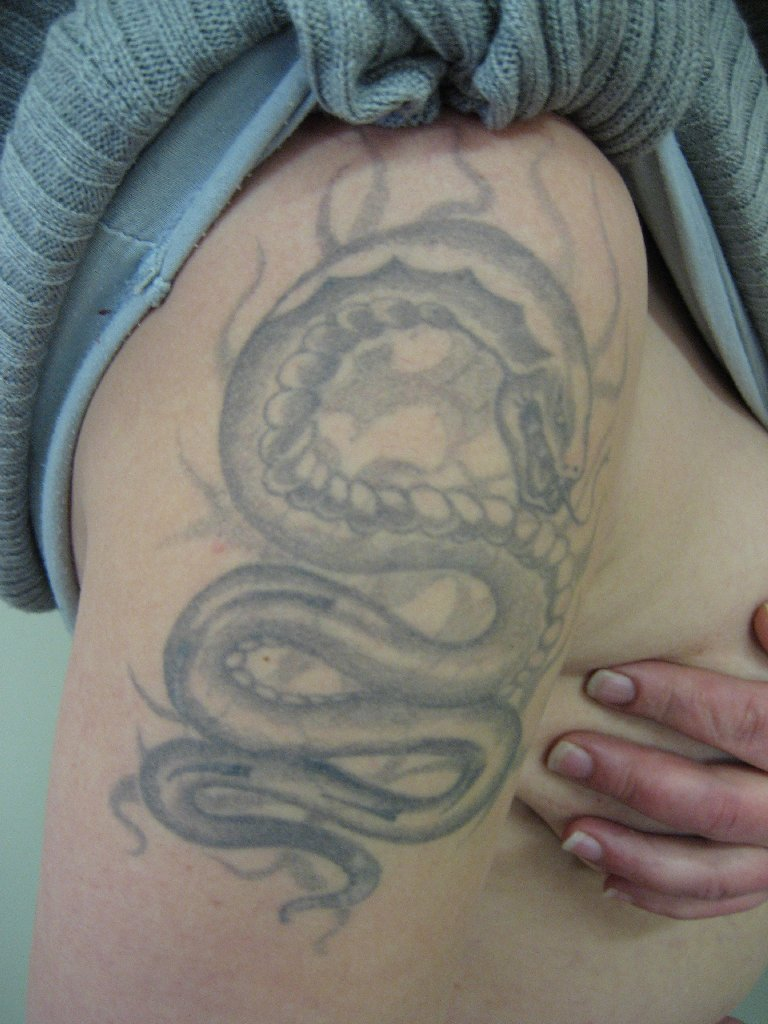tatu7_zmeya: (138, 178, 596, 957)
